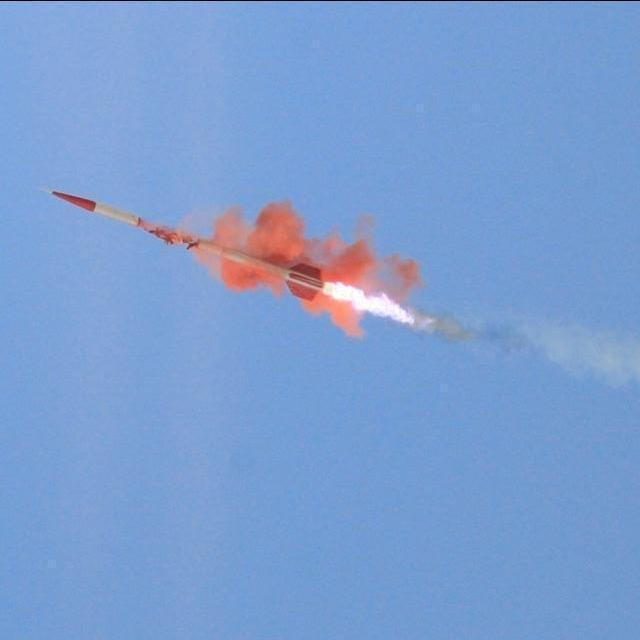missile: (61, 180, 176, 250)
